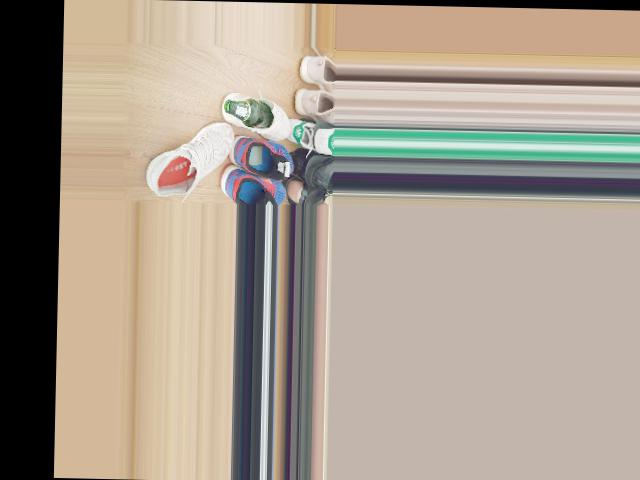beer: (223, 97, 273, 128)
